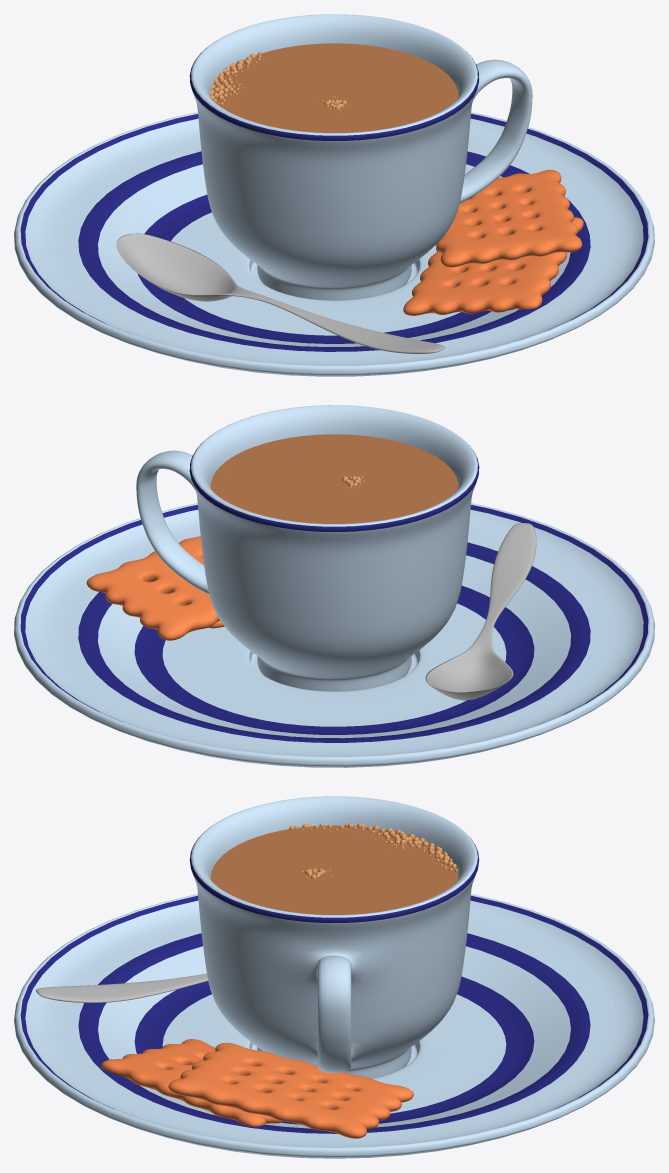
The model's file is tea2.glb.
The picture shows the model from 3 angles, top to bottom: view 1: azimuth 30°, elevation 25°; view 2: azimuth 150°, elevation 25°; view 3: azimuth 270°, elevation 25°; orthographic projection.
Parts seen in each view (by area): view 1: Circle.004; view 2: Circle.004; view 3: Circle.004.
Boxes of the visible parts, x1=… form: Circle.004: x1=14, y1=14, x2=654, y2=376; Circle.004: x1=14, y1=405, x2=654, y2=767; Circle.004: x1=14, y1=796, x2=654, y2=1158.
Size of the model in its own units: 0.2114 by 0.0754 by 0.2114.
